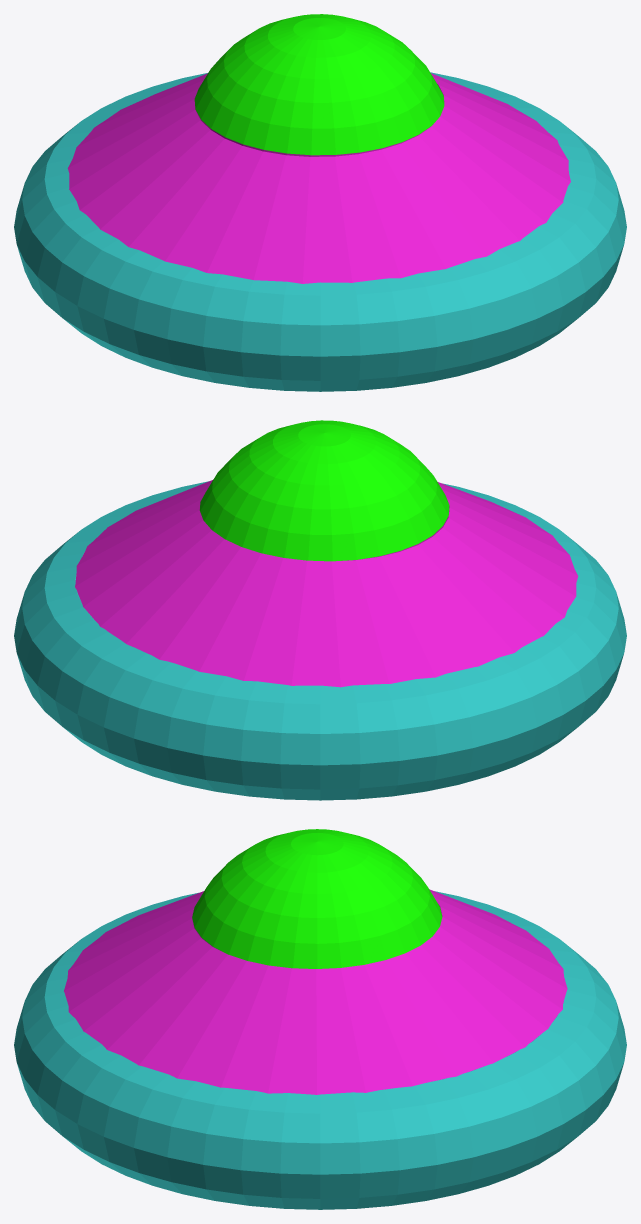
The model's file is ufo.glb.
The picture shows the model from 3 angles, top to bottom: view 1: azimuth 30°, elevation 25°; view 2: azimuth 150°, elevation 25°; view 3: azimuth 270°, elevation 25°; orthographic projection.
Parts seen in each view (by area): view 1: Sphere.001, Torus.001; view 2: Sphere.001, Torus.001; view 3: Sphere.001, Torus.001.
Boxes of the visible parts, x1,y1,x2,y2 form: Sphere.001: (67, 14, 570, 283); Torus.001: (14, 72, 626, 391); Sphere.001: (75, 420, 578, 687); Torus.001: (14, 481, 626, 800); Sphere.001: (64, 829, 567, 1094); Torus.001: (14, 891, 626, 1209).
Bounding box in the file's own units: 0.9271 × 0.4303 × 0.9271.
